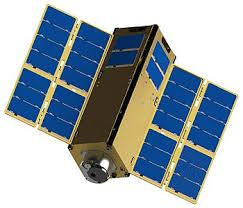body: (66, 22, 180, 185)
solar: (185, 78, 241, 155), (58, 20, 115, 94), (150, 63, 206, 138), (24, 3, 78, 78), (4, 65, 54, 128), (39, 83, 88, 143), (131, 126, 180, 185), (167, 143, 214, 202), (103, 31, 148, 70), (143, 38, 172, 93)
